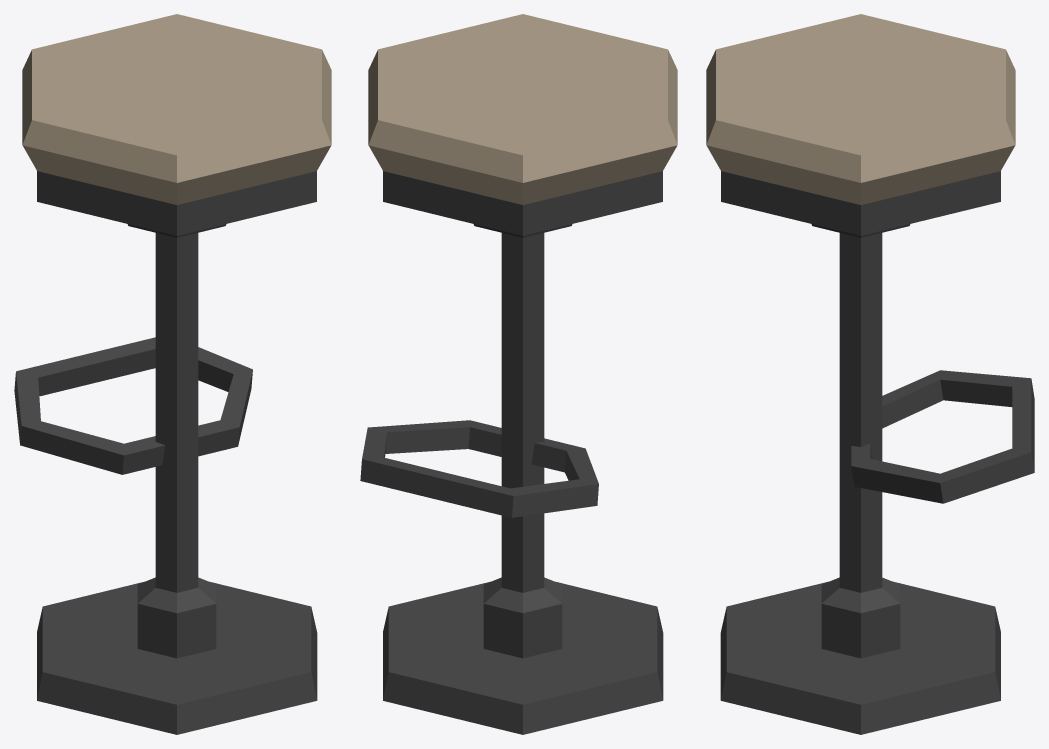
Rendered from Stool.obj.
The picture shows the model from 3 angles, left to right: view 1: azimuth 30°, elevation 25°; view 2: azimuth 150°, elevation 25°; view 3: azimuth 270°, elevation 25°; orthographic projection.
Bounding box in the file's own units: 0.3892 × 0.7 × 0.3579.
Materials: 1 (1 with a texture image).
